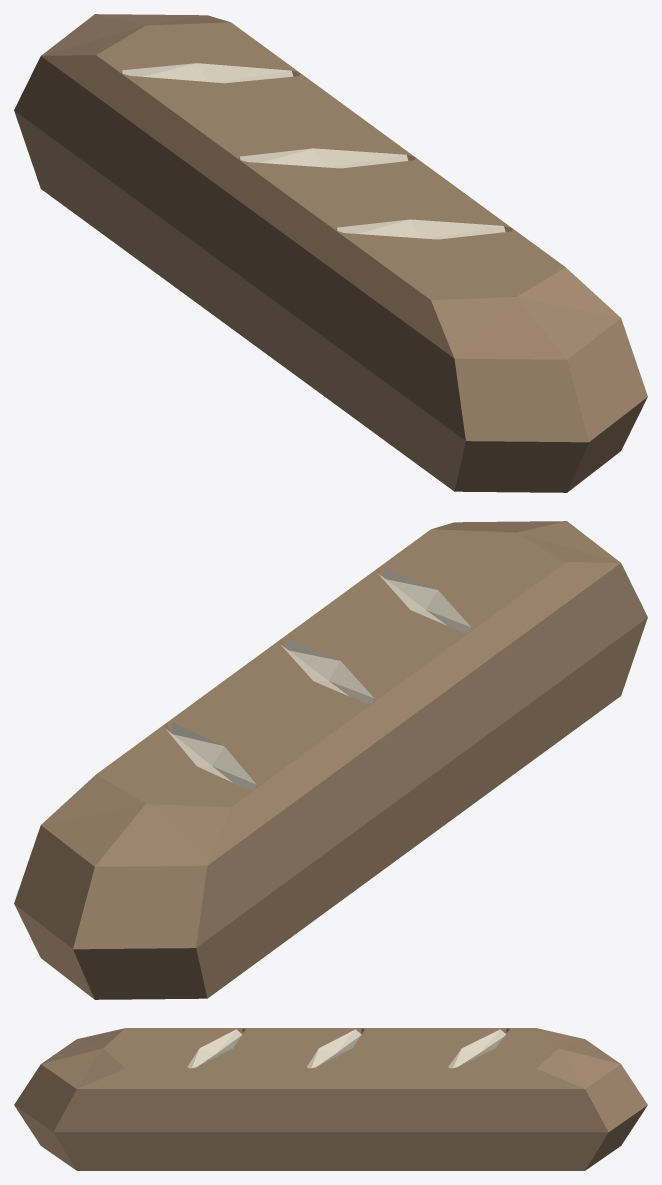
Rendered from pain.fbx.
The picture shows the model from 3 angles, top to bottom: view 1: azimuth 30°, elevation 25°; view 2: azimuth 150°, elevation 25°; view 3: azimuth 270°, elevation 25°; orthographic projection. The views are drawn at different scales.
Visible parts, largest first — view 1: pain; view 2: pain; view 3: pain.
Boxes of the visible parts, <box> form: pain: <box>14,14,647,492</box>; pain: <box>14,521,647,999</box>; pain: <box>14,1028,647,1170</box>.
Size of the model in its own units: 19.59 by 96.13 by 16.32.
